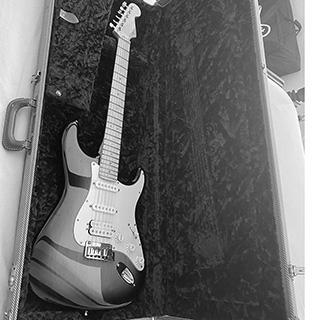Fender Stratocaster: (27, 1, 155, 318)
HSS: (87, 177, 122, 244)
